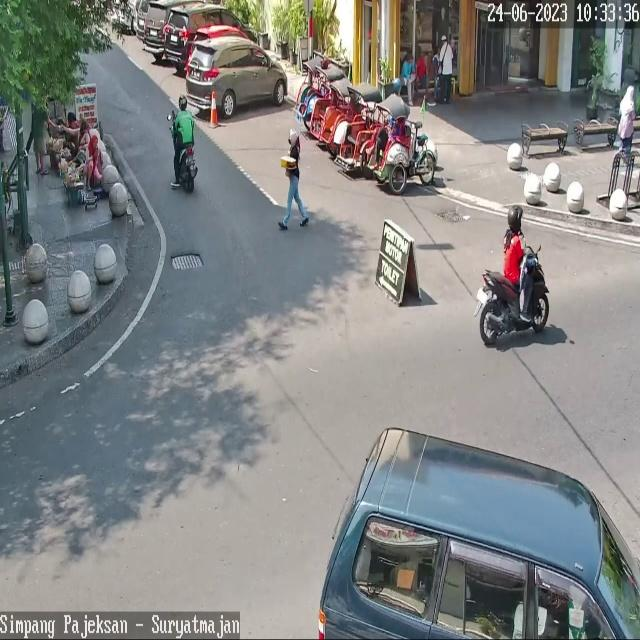bus: (478, 245, 550, 344), (178, 142, 198, 192)
motorcycle: (318, 427, 640, 640), (186, 35, 287, 119), (163, 3, 252, 63), (187, 25, 250, 80), (144, 0, 170, 52)
